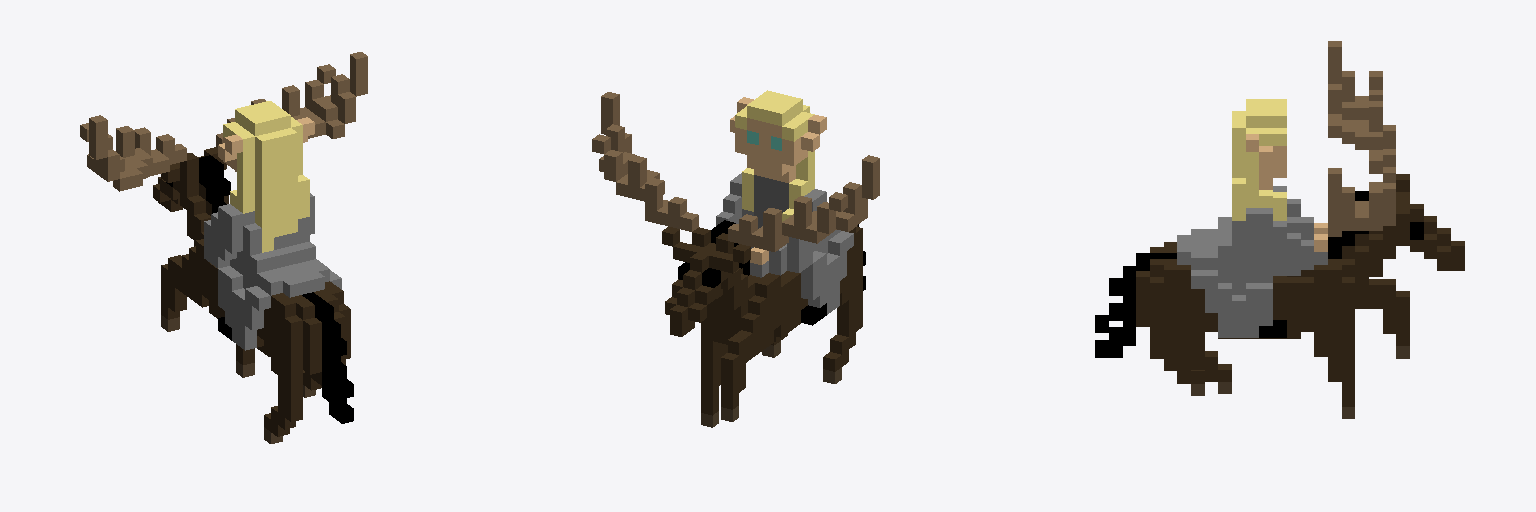
3 views of the same model, side by side, from view 1: azimuth 30°, elevation 25°; view 2: azimuth 150°, elevation 25°; view 3: azimuth 270°, elevation 25° (orthographic).
Visible parts, largest first — view 1: object 1; view 2: object 1; view 3: object 1.
Part boxes in pixels (x1,y1,x2,y2): object 1: (80, 52, 367, 443); object 1: (592, 90, 879, 427); object 1: (1095, 41, 1464, 418).
Bounding box in the file's own units: 2.3 × 2.4 × 2.7.
Materials: 1 (1 with a texture image).